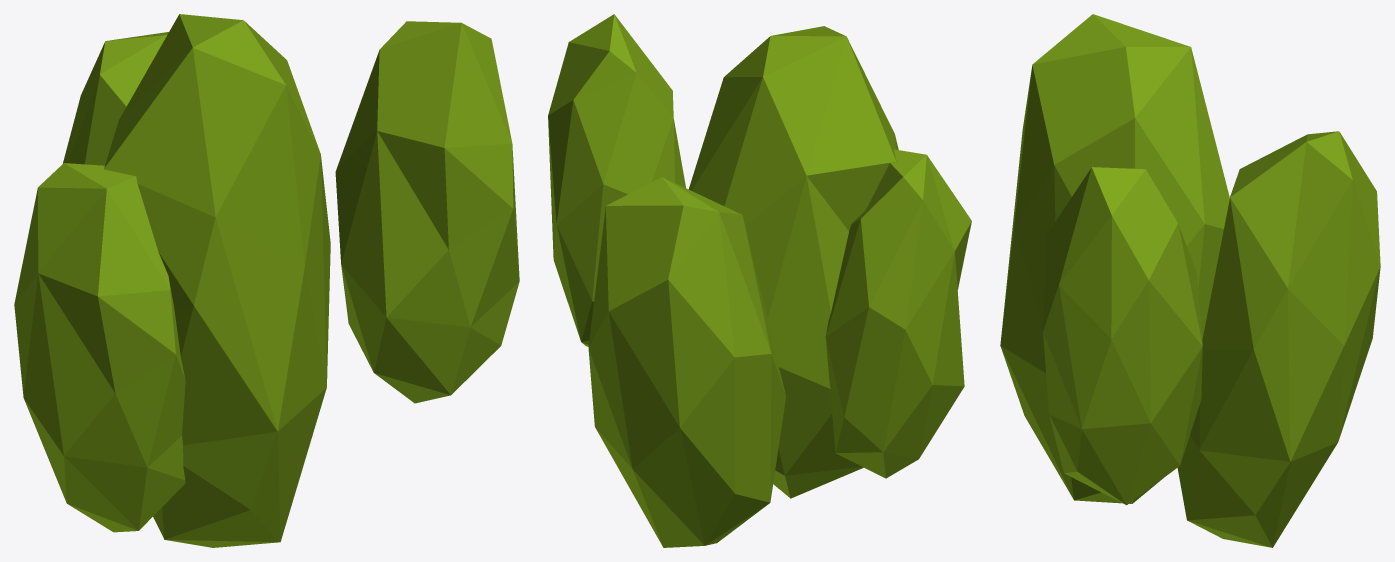
The model's file is tree-summer-leaves-13-044.glb.
3 views of the same model, side by side, from view 1: azimuth 30°, elevation 25°; view 2: azimuth 150°, elevation 25°; view 3: azimuth 270°, elevation 25° (orthographic). The views are drawn at different scales.
Parts seen in each view (by area): view 1: TREE 13_286; view 2: TREE 13_286; view 3: TREE 13_286.
Boxes of the visible parts, bbox=[...] form: TREE 13_286: bbox=[14, 14, 519, 547]; TREE 13_286: bbox=[548, 14, 971, 547]; TREE 13_286: bbox=[1000, 14, 1380, 547].
Bounding box in the file's own units: 0.9813 × 1.11 × 0.7767.
